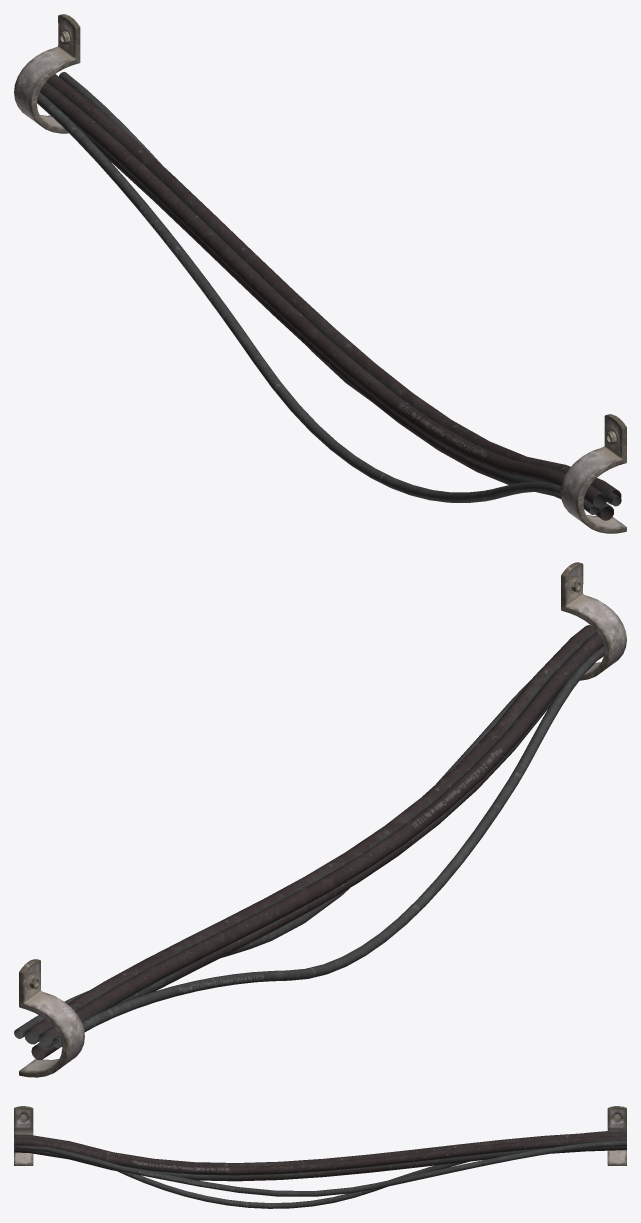
File: SM_Cable_Set_02a.fbx
3 views of the same model, one above another, from view 1: azimuth 30°, elevation 25°; view 2: azimuth 150°, elevation 25°; view 3: azimuth 270°, elevation 25° (orthographic). The views are drawn at different scales.
Visible parts, largest first — view 1: SM_Cable_Set_02a_LOD0; view 2: SM_Cable_Set_02a_LOD0; view 3: SM_Cable_Set_02a_LOD0.
Part boxes in pixels (x1,y1,x2,y2): SM_Cable_Set_02a_LOD0: [14, 14, 626, 533]; SM_Cable_Set_02a_LOD0: [14, 562, 626, 1077]; SM_Cable_Set_02a_LOD0: [14, 1106, 626, 1208].
Size of the model in its own units: 11.11 by 200 by 40.12.
